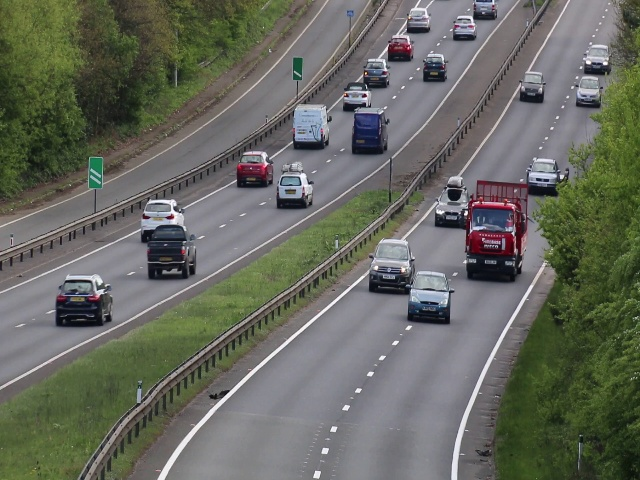car: (466, 208, 522, 279), (52, 273, 113, 326), (145, 226, 200, 281), (369, 239, 413, 293), (348, 105, 390, 155), (409, 272, 451, 320), (293, 104, 331, 148), (235, 148, 275, 186), (275, 172, 313, 208), (140, 197, 187, 224), (434, 188, 466, 227), (528, 159, 558, 194), (517, 70, 546, 103), (363, 55, 390, 89), (575, 74, 601, 106), (584, 43, 609, 76), (343, 81, 371, 108), (388, 32, 413, 62), (406, 6, 432, 34), (423, 55, 447, 83), (452, 15, 477, 39), (473, 1, 498, 20)
